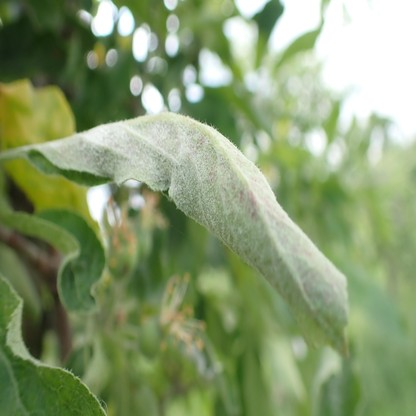powder: (28, 111, 349, 359)
